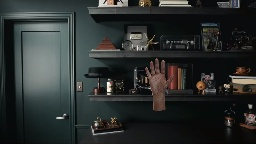Mano_aperta: (143, 57, 174, 94)
